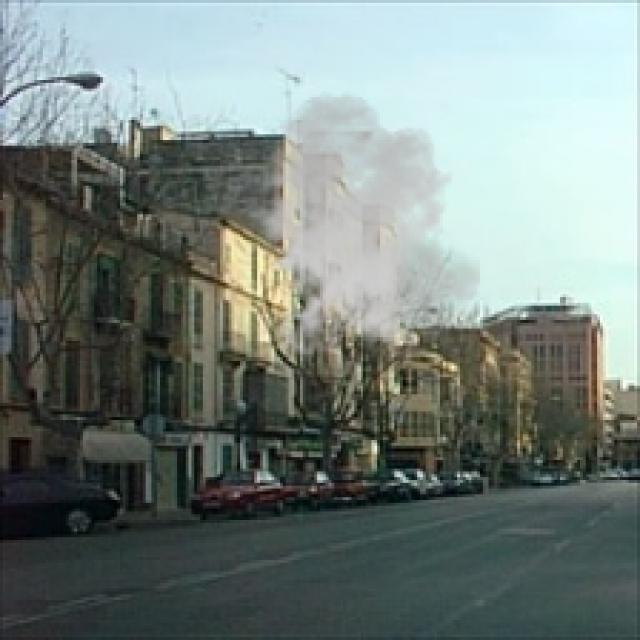Smoke: (237, 91, 480, 363)
